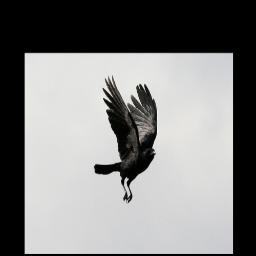Crow: (93, 75, 159, 206)
